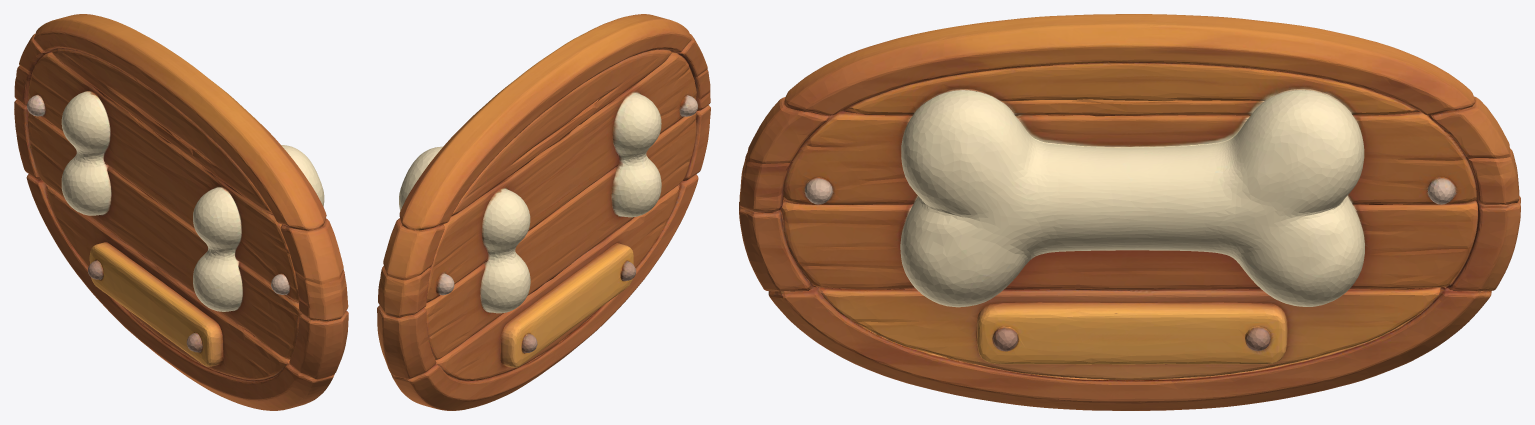
Rendered from sign_3.glb.
The picture shows the model from 3 angles, left to right: view 1: azimuth 30°, elevation 25°; view 2: azimuth 150°, elevation 25°; view 3: azimuth 270°, elevation 25°; orthographic projection. The views are drawn at different scales.
Parts seen in each view (by area): view 1: tripo_node_09587b8d-347a-40f3-a3f2-3217ed45bc4a; view 2: tripo_node_09587b8d-347a-40f3-a3f2-3217ed45bc4a; view 3: tripo_node_09587b8d-347a-40f3-a3f2-3217ed45bc4a.
Boxes of the visible parts, <box> form: tripo_node_09587b8d-347a-40f3-a3f2-3217ed45bc4a: <box>14,14,348,410</box>; tripo_node_09587b8d-347a-40f3-a3f2-3217ed45bc4a: <box>377,14,710,410</box>; tripo_node_09587b8d-347a-40f3-a3f2-3217ed45bc4a: <box>739,14,1520,410</box>.
Bounding box in the file's own units: 0.2328 × 0.5414 × 1.
1 material, 1 textured.
